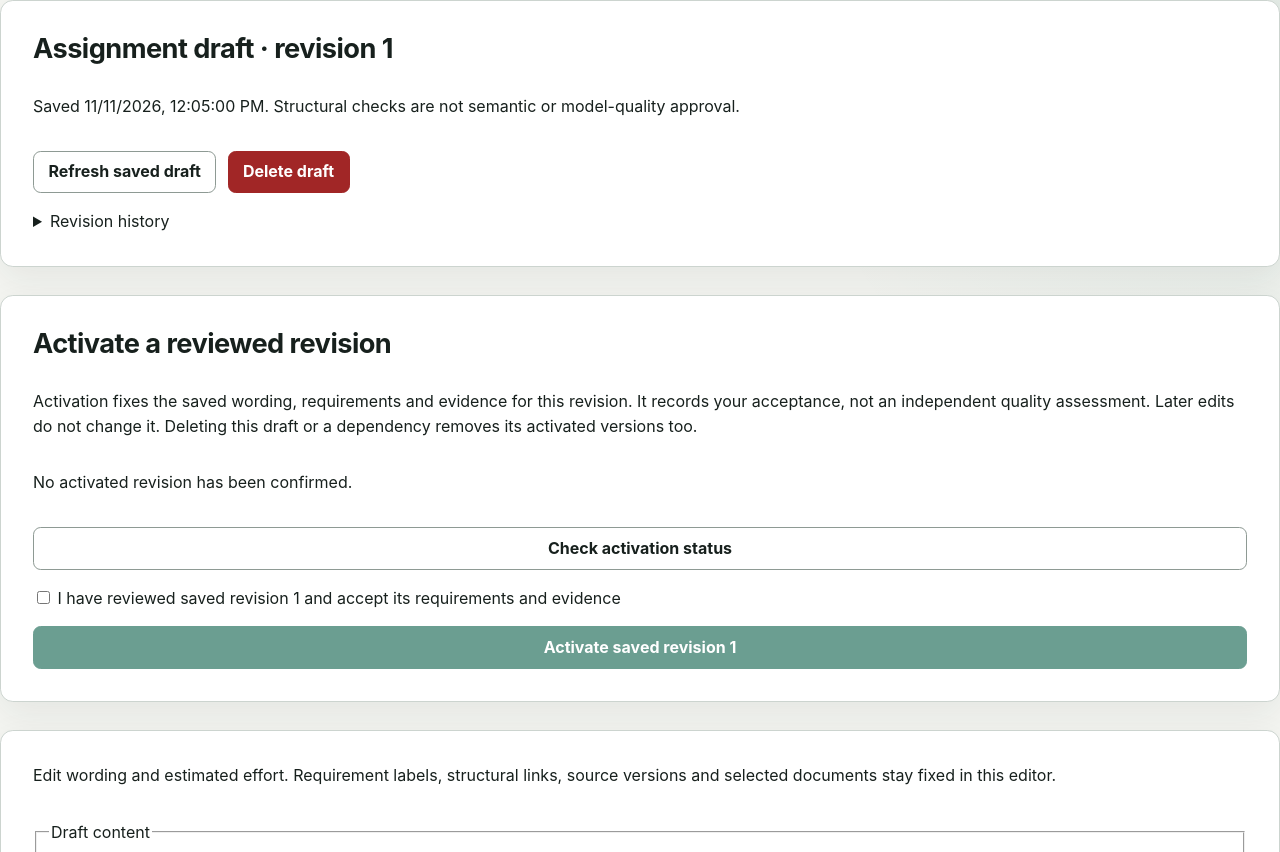
Test: explicit reviewed assignment activation › replays an uncertain activation with the same exact body/revision and freezes edits
The width and height of the screenshot is (1280, 852).
Click the checkbox labelled "I have reviewed saved revision": {"x": 44, "y": 597} 37,590 -> 50,604
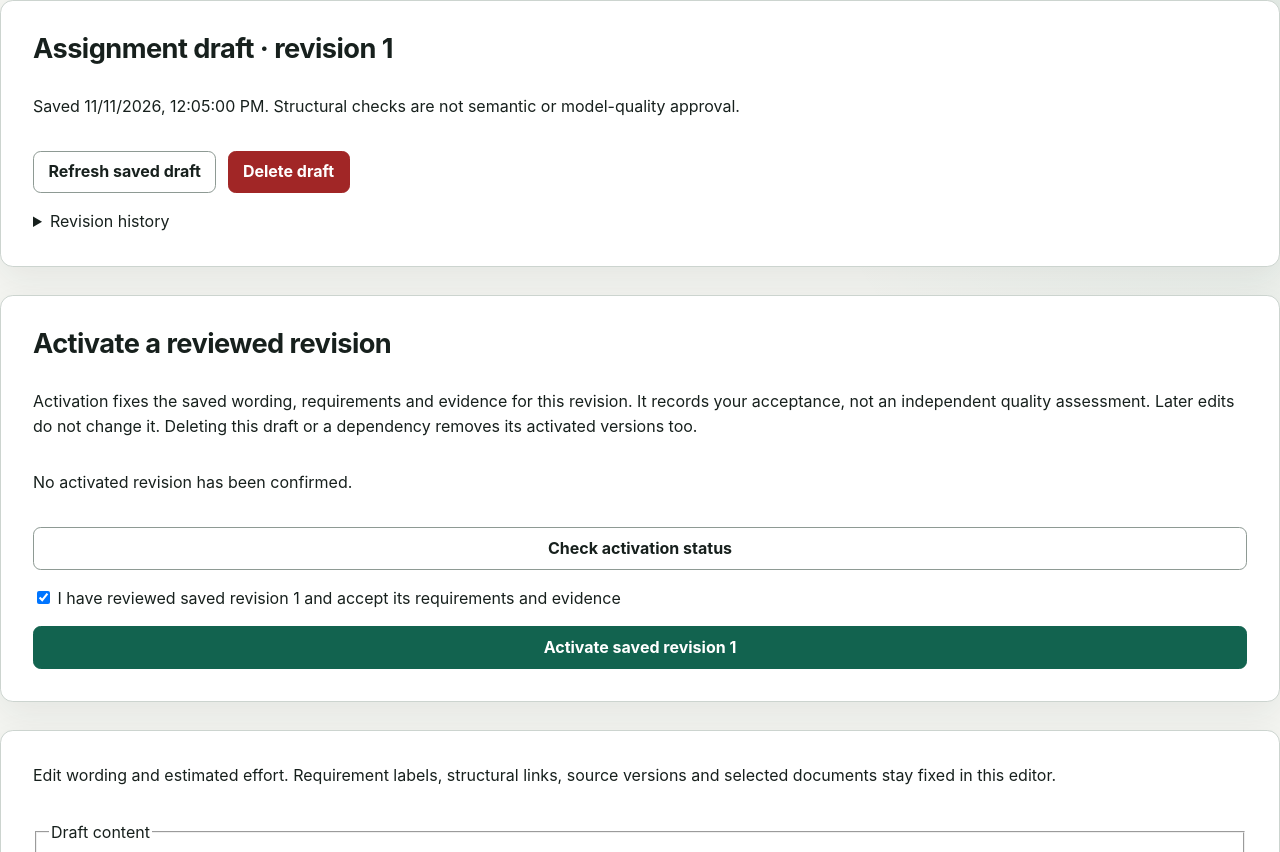
Click the button "Activate saved revision 1": {"x": 640, "y": 648} 33,626 -> 1247,669
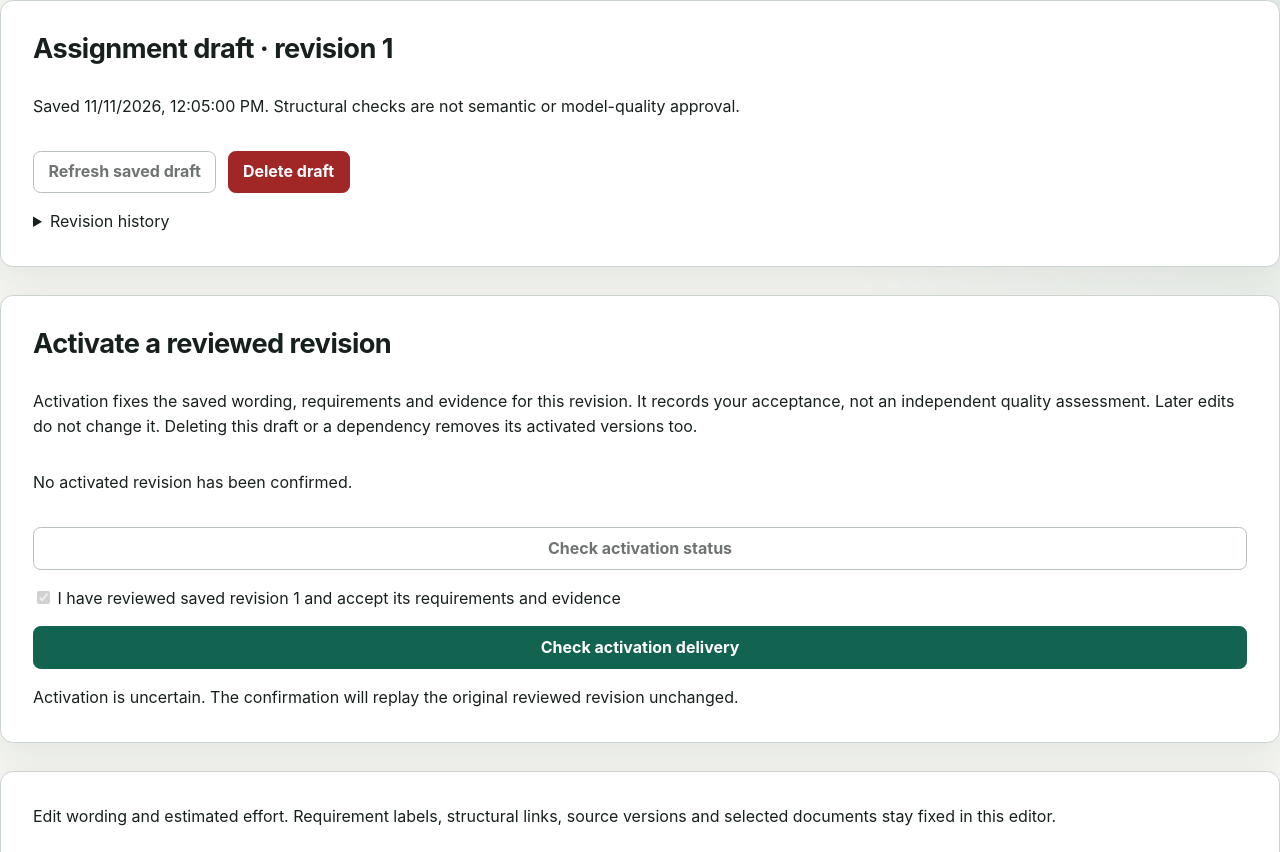
Expected: the button "Refresh saved draft" is disabled, 33,151 -> 216,193
Click the button "Check activation delivery": {"x": 640, "y": 648} 33,626 -> 1247,669
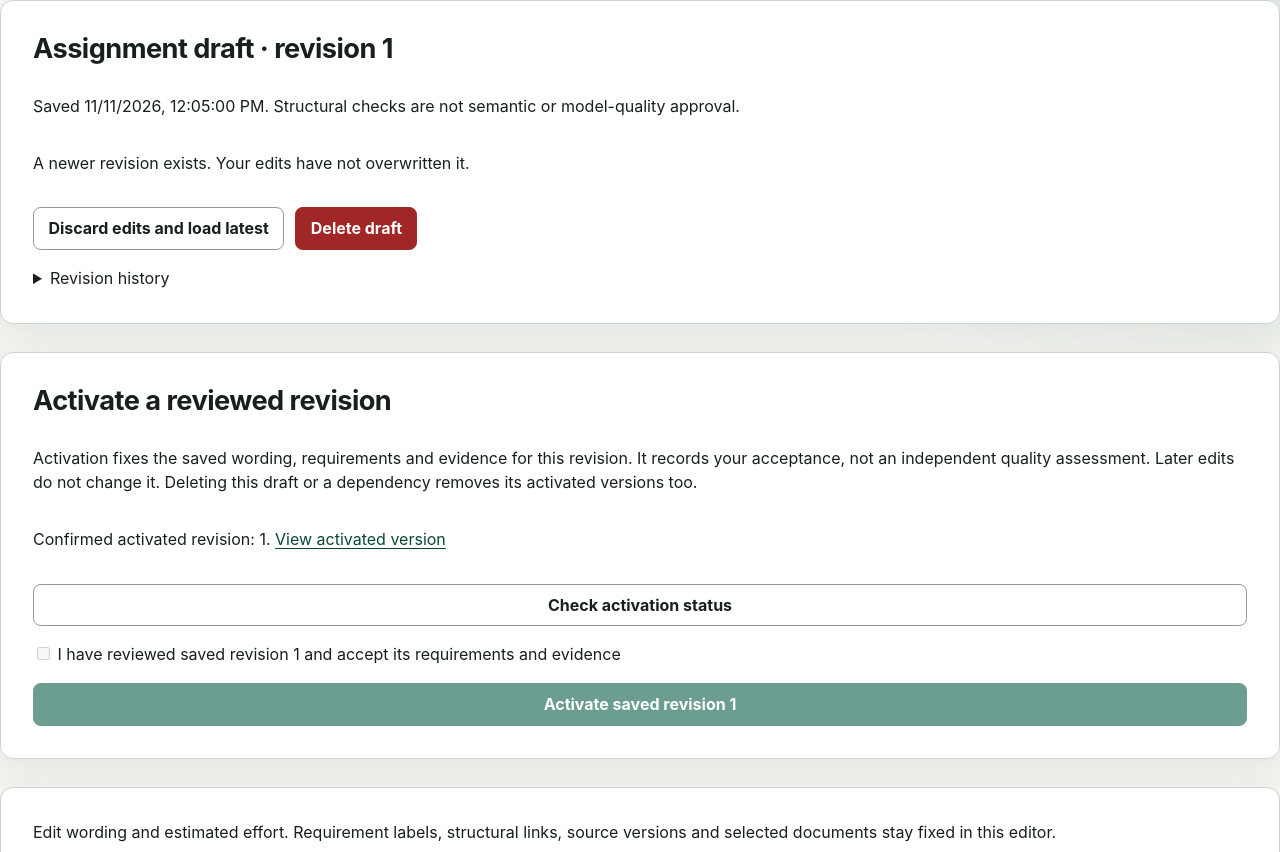
Expected: the text "A newer revision exists. Your edits have not overwritten it." is shown, 33,153 -> 470,173
